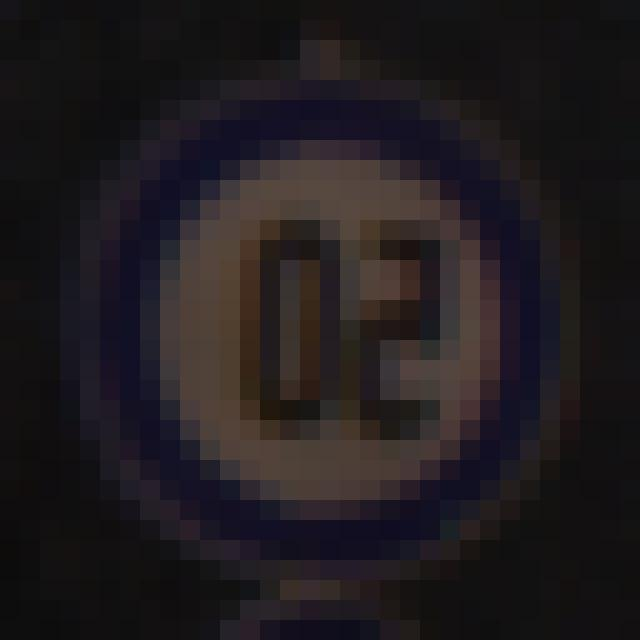SPEED LIMIT 50: (114, 136, 538, 532)
